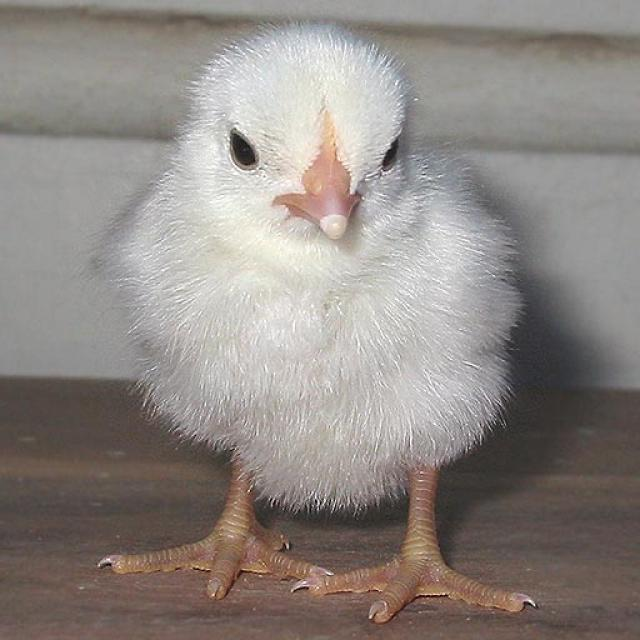poussin: (106, 29, 549, 615)
